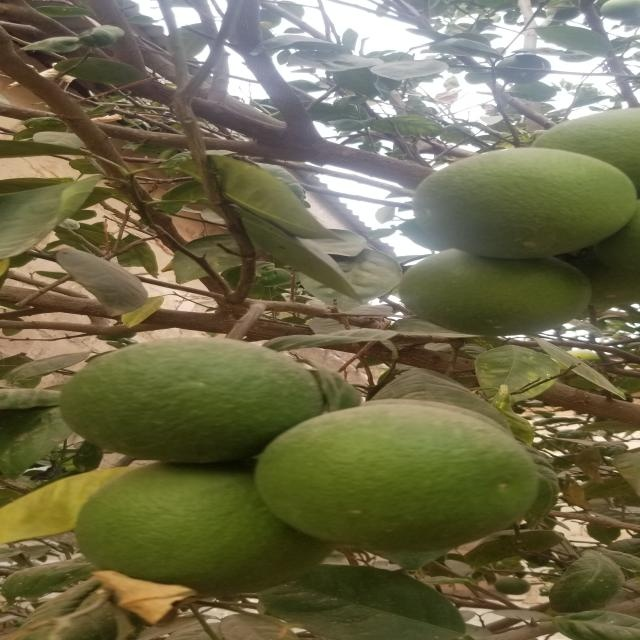agrume: (271, 397, 555, 568), (49, 325, 330, 459), (398, 140, 640, 268)
